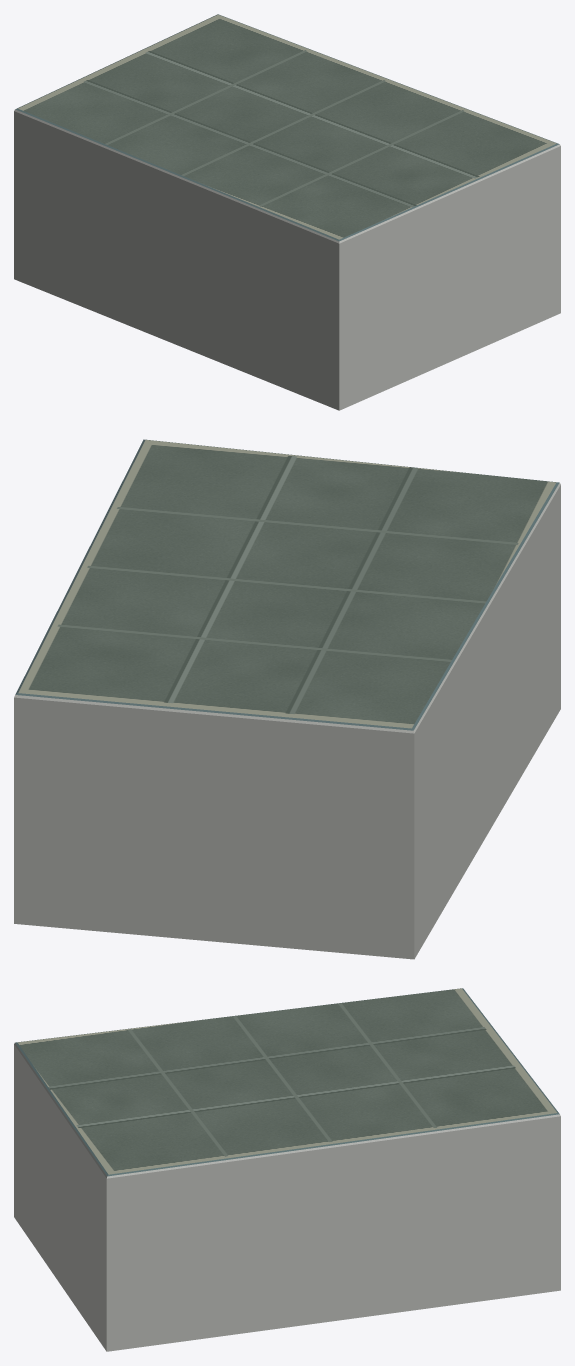
Rendered from fragments.glb.
3 views of the same model, one above another, from view 1: azimuth 30°, elevation 25°; view 2: azimuth 150°, elevation 25°; view 3: azimuth 270°, elevation 25° (orthographic). The views are drawn at different scales.
Parts seen in each view (by area): view 1: SM_gh52_Fragment_004, SM_gh52_Fragment_023, SM_gh52_Fragment_047, SM_gh52_Fragment_046, SM_gh52_Fragment_007, SM_gh52_Fragment_040, SM_gh52_Fragment_017, SM_gh52_Fragment_048, SM_gh52_Fragment_024, SM_gh52_Fragment_025, SM_gh52_Fragment_062, SM_gh52_Fragment_052 (+24 smaller); view 2: SM_gh52_Fragment_001, SM_gh52_Fragment_027, SM_gh52_Fragment_003, SM_gh52_Fragment_022, SM_gh52_Fragment_007, SM_gh52_Fragment_053, SM_gh52_Fragment_049, SM_gh52_Fragment_030, SM_gh52_Fragment_041, SM_gh52_Fragment_026, SM_gh52_Fragment_054, SM_gh52_Fragment_021 (+24 smaller); view 3: SM_gh52_Fragment_012, SM_gh52_Fragment_031, SM_gh52_Fragment_061, SM_gh52_Fragment_006, SM_gh52_Fragment_005, SM_gh52_Fragment_057, SM_gh52_Fragment_039, SM_gh52_Fragment_030, SM_gh52_Fragment_018, SM_gh52_Fragment_001, SM_gh52_Fragment_017, SM_gh52_Fragment_008 (+24 smaller).
Part boxes in pixels (x1,y1,x2,y2): SM_gh52_Fragment_004: (291, 228, 369, 348); SM_gh52_Fragment_023: (29, 201, 134, 323); SM_gh52_Fragment_047: (428, 153, 552, 269); SM_gh52_Fragment_046: (125, 162, 212, 292); SM_gh52_Fragment_007: (14, 91, 138, 190); SM_gh52_Fragment_040: (207, 210, 292, 326); SM_gh52_Fragment_017: (346, 164, 467, 249); SM_gh52_Fragment_048: (173, 172, 301, 240); SM_gh52_Fragment_024: (81, 123, 163, 258); SM_gh52_Fragment_025: (291, 335, 380, 410); SM_gh52_Fragment_062: (353, 213, 416, 337); SM_gh52_Fragment_052: (411, 198, 485, 307); SM_gh52_Fragment_001: (14, 643, 167, 797); SM_gh52_Fragment_027: (207, 712, 360, 853); SM_gh52_Fragment_003: (250, 856, 427, 959); SM_gh52_Fragment_022: (93, 839, 252, 944); SM_gh52_Fragment_007: (335, 657, 456, 784); SM_gh52_Fragment_053: (318, 753, 445, 897); SM_gh52_Fragment_049: (168, 774, 318, 918); SM_gh52_Fragment_030: (14, 739, 115, 873); SM_gh52_Fragment_041: (115, 634, 244, 757); SM_gh52_Fragment_026: (375, 481, 547, 566); SM_gh52_Fragment_054: (227, 651, 370, 722); SM_gh52_Fragment_021: (170, 543, 322, 614); SM_gh52_Fragment_012: (379, 1104, 504, 1250); SM_gh52_Fragment_031: (83, 1196, 194, 1328); SM_gh52_Fragment_061: (190, 1223, 312, 1336); SM_gh52_Fragment_006: (98, 1124, 215, 1227); SM_gh52_Fragment_005: (270, 1158, 384, 1277); SM_gh52_Fragment_057: (200, 1138, 318, 1227); SM_gh52_Fragment_039: (315, 1092, 433, 1207); SM_gh52_Fragment_030: (480, 1148, 560, 1247); SM_gh52_Fragment_018: (359, 1249, 473, 1317); SM_gh52_Fragment_001: (441, 1066, 560, 1154); SM_gh52_Fragment_017: (38, 1071, 149, 1132); SM_gh52_Fragment_008: (469, 1241, 560, 1302).
Bounding box in the file's own units: 1.8 × 0.7848 × 2.2.
4 materials, 1 textured.
